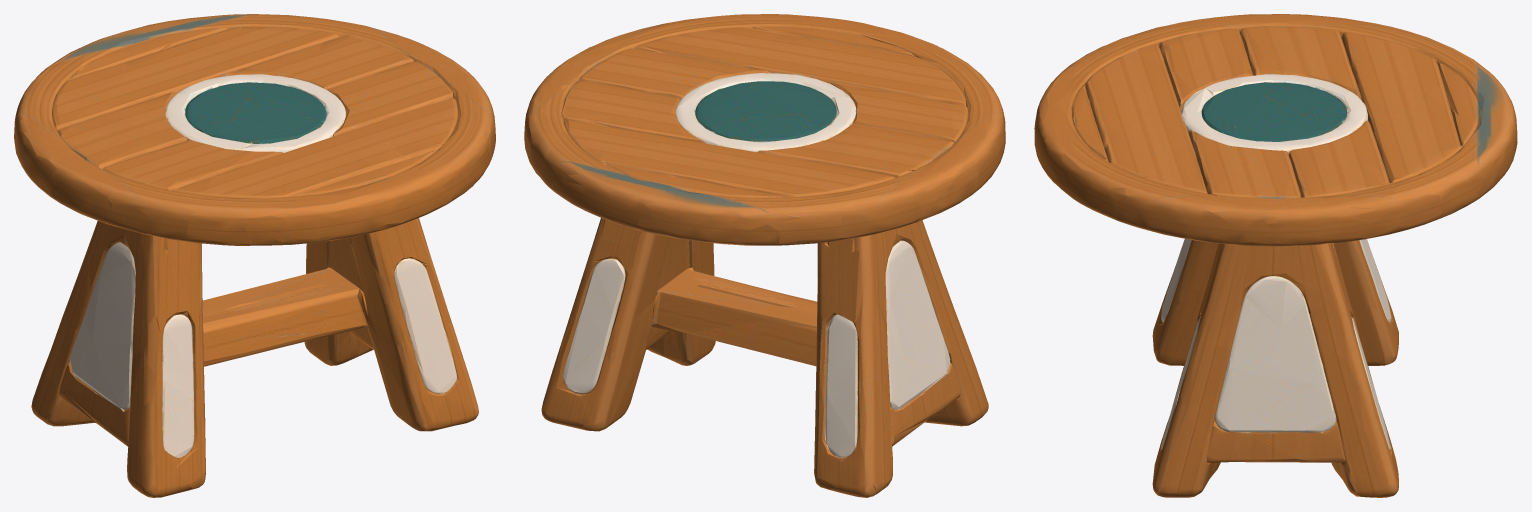
Rendered from cafeTable.glb.
The picture shows the model from 3 angles, left to right: view 1: azimuth 30°, elevation 25°; view 2: azimuth 150°, elevation 25°; view 3: azimuth 270°, elevation 25°; orthographic projection.
Visible parts, largest first — view 1: Mesh_0; view 2: Mesh_0; view 3: Mesh_0.
Boxes of the visible parts, <box> form: Mesh_0: <box>14,14,495,497</box>; Mesh_0: <box>524,14,1005,497</box>; Mesh_0: <box>1034,14,1517,497</box>.
Bounding box in the file's own units: 0.8002 × 0.5653 × 0.8.
Materials: 1 (1 with a texture image).
